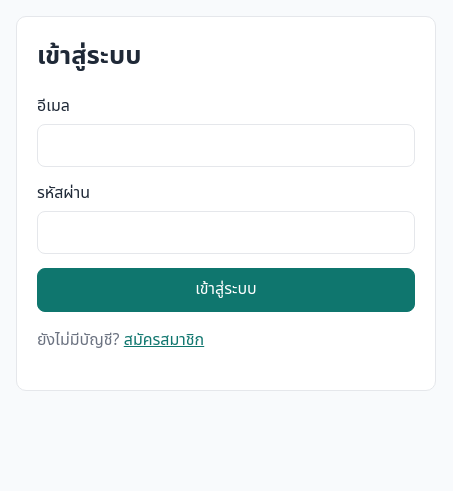
Scenario: LoginPage › shows a Thai error message when the credentials are wrong
The width and height of the screenshot is (453, 491).
Type "customer@shop.local" into the field labelled "อีเมล" at (226, 145), box [37,124,415,167]
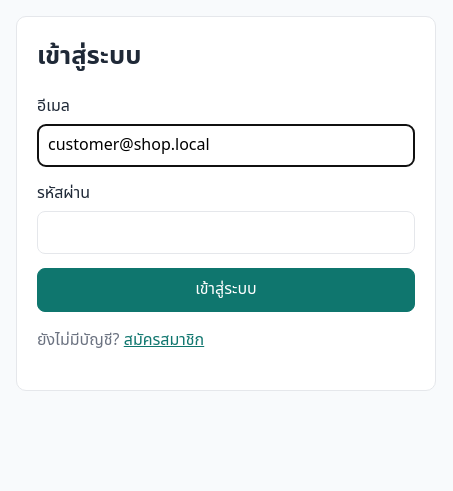
Type "wrong-password" into the password field labelled "รหัสผ่าน" at (226, 232), box [37,211,415,254]
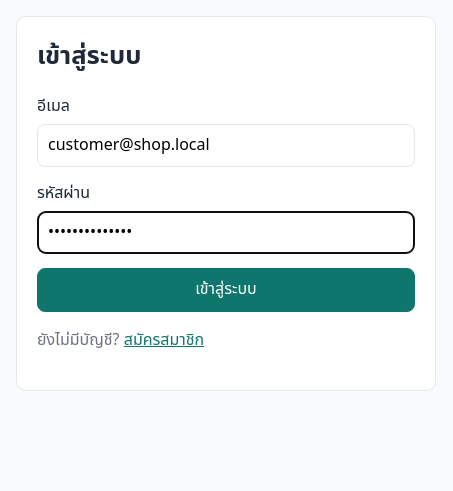
Click the button "เข้าสู่ระบบ" at (226, 290), box [37,268,415,312]
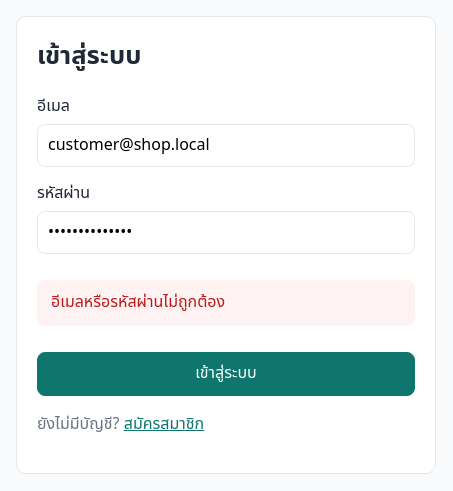
Check: the message reads "อีเมลหรือรหัสผ่านไม่ถูกต้อง", box [51,290,225,314]
